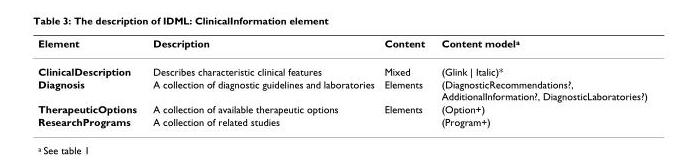table: (37, 36, 646, 127)
table column: (144, 36, 378, 127), (432, 36, 646, 127), (37, 36, 144, 127), (378, 36, 432, 127)
table column header: (37, 36, 646, 56)
table row: (37, 77, 646, 102), (37, 56, 646, 77), (37, 36, 646, 56), (37, 102, 646, 115), (37, 115, 646, 127)
